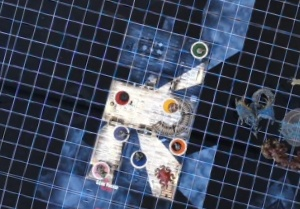blue: (126, 144, 153, 171)
green: (186, 36, 212, 62)
orange: (165, 133, 189, 157)
pink: (108, 86, 135, 109), (89, 157, 114, 180)
violet: (108, 120, 133, 143)
yellow: (159, 94, 181, 117)
